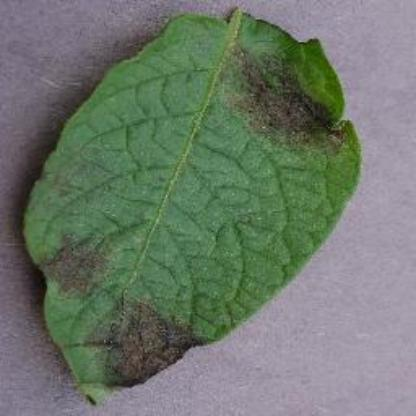Late-Blight: (17, 5, 364, 401)
